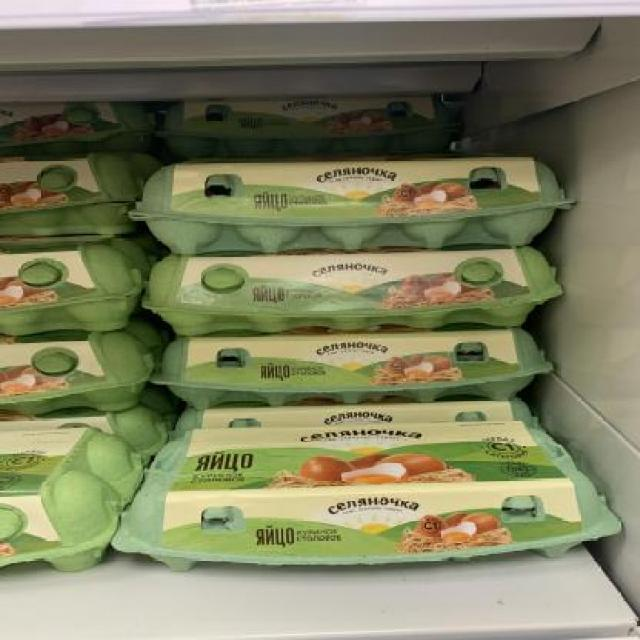egg: (117, 422, 625, 572), (127, 154, 581, 252), (136, 250, 566, 333), (145, 328, 558, 406), (154, 89, 468, 158), (0, 423, 142, 574), (0, 236, 136, 332), (0, 330, 152, 412), (0, 152, 131, 236), (0, 101, 154, 157)
